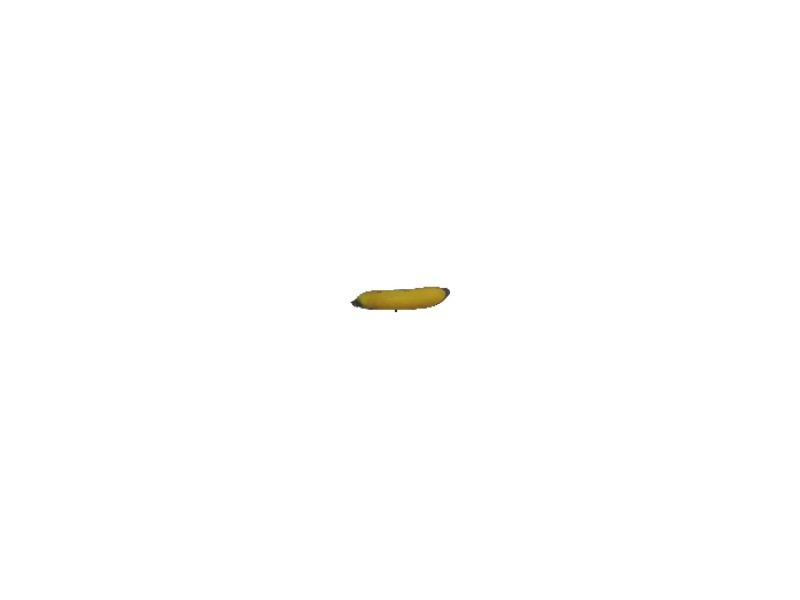banana: (348, 281, 453, 316)
